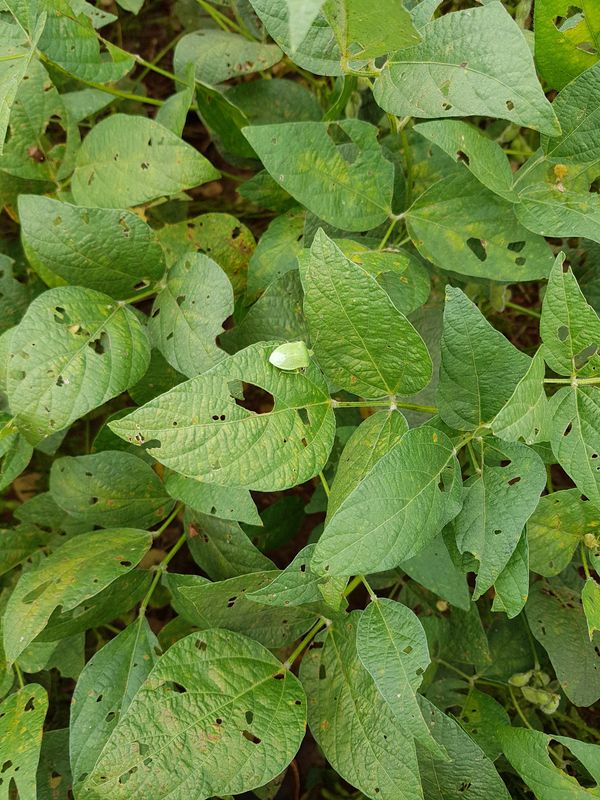Nezara_viridula_adulto: (251, 321, 327, 384)
